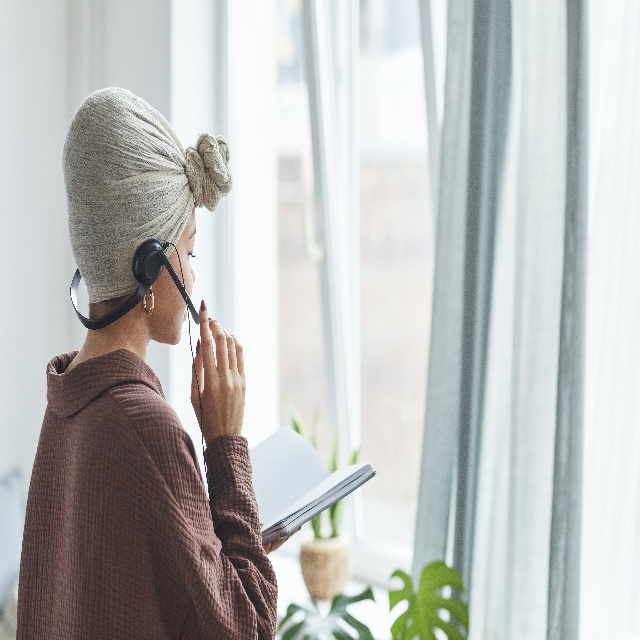Sin_guantes: (186, 296, 249, 439)
